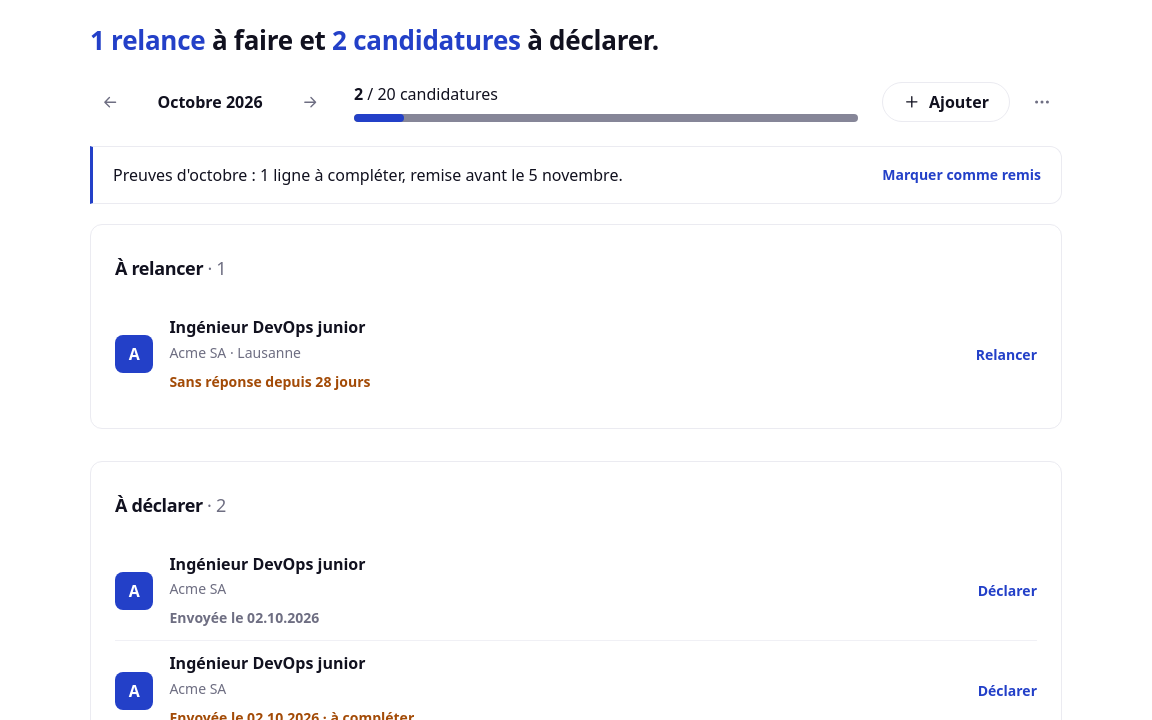
Test: Candidatures, onglet Preuves ORP › affiche le mois, l'état et les lignes à compléter
Expected: the text with test id "state" reads "Preuves d'octobre : 1 ligne à compléter, remise avant le 5 novembre.", [113,164,623,186]
What coordinates should you click on to do the following:
click the button with test id "orp-more"
I would click on:
 (1042, 102)
Its box is [1022,82,1062,122].
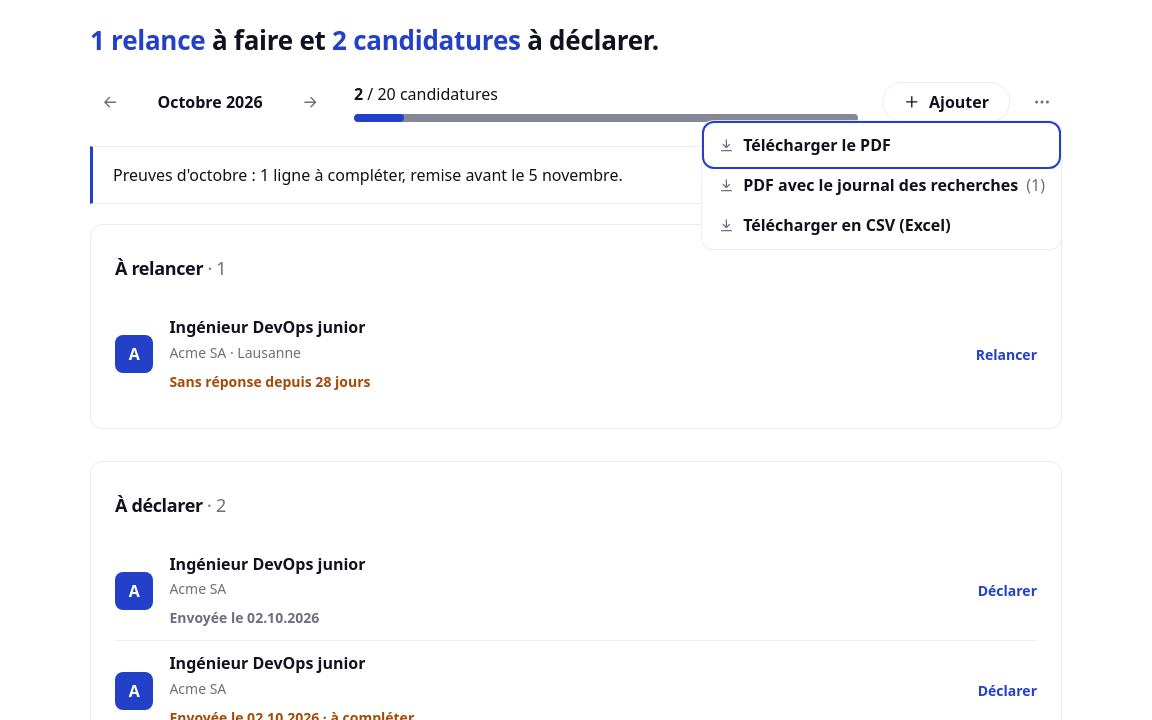
Result: the menu item with test id "pdf" is shown at [706,125,1057,165]
